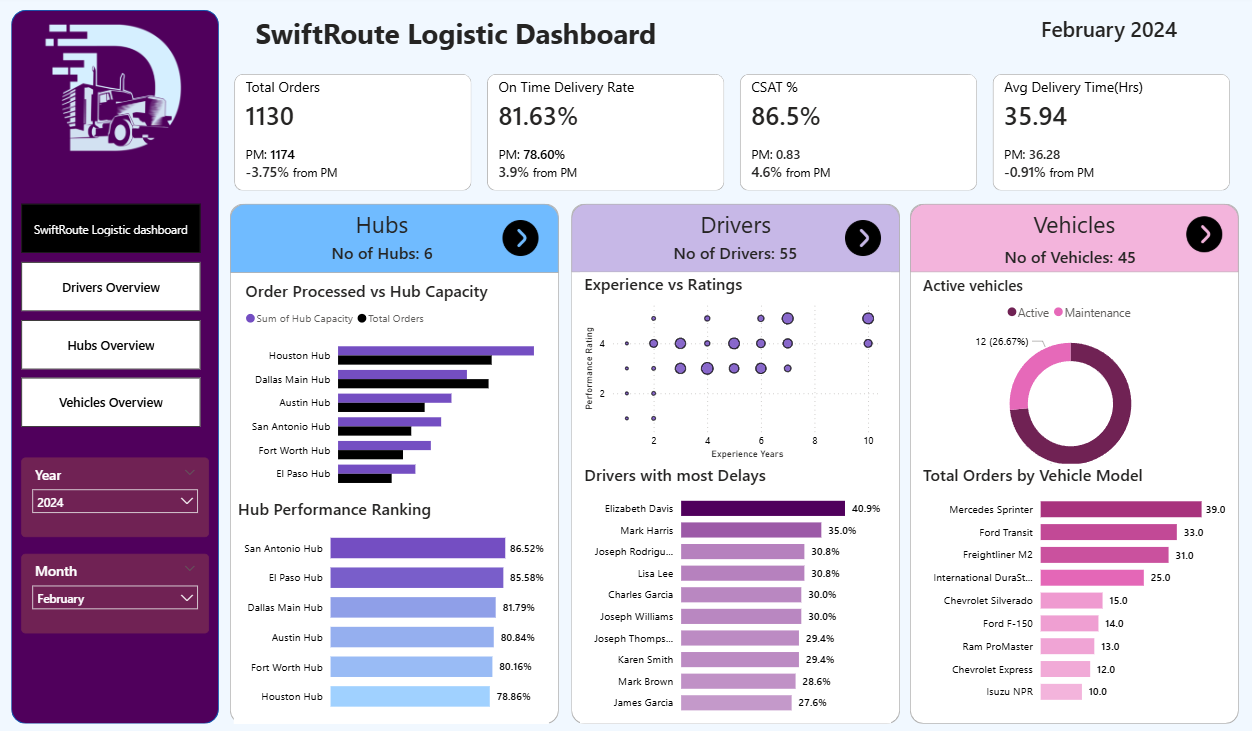

Layout of this report page (visuals, bound fields, positions):
{"tool":"powerbi","page":{"name":"SwiftRoute Logistic dashboard","canvas":[1450,850],"ordinal":0},"visuals":[{"type":"shape","box":[13,11.5,239.6,824.3],"z":0},{"type":"textbox","box":[290.2,11.5,1140.5,73.6],"z":1000},{"type":"cardVisual","fields":{"Data":["Orders.Total Orders","Orders.On Time Delivery Rate","Orders.CSAT %","Orders.Avg Delivery Time(Hrs)"]},"box":[265.6,75.1,1163.6,150.1],"z":2000},{"type":"slicer","fields":{"Values":["Date Table.Year"]},"box":[24.5,528.4,216.5,92.4],"z":3000},{"type":"slicer","fields":{"Values":["Date Table.Month"]},"box":[24.5,639.5,216.5,92.4],"z":4000},{"type":"shape","box":[265.6,235.3,379.7,600.5],"z":5000},{"type":"shape","box":[265.6,235.3,379.7,80],"z":6000},{"type":"textbox","box":[301.7,235.3,278.6,50.5],"z":7000},{"type":"cardVisual","fields":{"Data":["Hubs.No of Hubs"]},"box":[285.8,271.4,311.8,39],"z":8000},{"type":"clusteredBarChart","title":"Order Processed vs Hub Capacity","fields":{"Category":["Hubs.HubName"],"Y":["Sum(Hubs.Hub Capacity)","Orders.Total Orders"]},"box":[278.6,323.4,355.1,251.2],"z":9000},{"type":"barChart","title":"Hub Performance Ranking","fields":{"Category":["Hubs.HubName"],"Y":["Orders.On Time Delivery Rate"]},"box":[270,574.6,363.8,261.3],"z":10000},{"type":"shape","box":[659.7,235.3,379.7,600.5],"z":11000},{"type":"shape","box":[659.7,235.3,379.7,79.4],"z":12000},{"type":"shape","box":[1051,235.3,379.7,600.5],"z":13000},{"type":"shape","box":[1051,235.3,379.7,79.4],"z":14000},{"type":"cardVisual","fields":{"Data":["Drivers.Count Of Driver ID"]},"box":[659.7,271.4,379.7,39],"z":15000},{"type":"textbox","box":[659.7,235.3,379.7,50.5],"z":16000},{"type":"scatterChart","title":"Experience vs Ratings","fields":{"Y":["Drivers.Performance Rating"],"X":["Drivers.Experience Years"],"Size":["Sum(Drivers.Experience Years)1"]},"box":[669.8,314.7,359.5,220.9],"z":17000},{"type":"barChart","title":"Drivers with most Delays","fields":{"Category":["Drivers.DriverName"],"Y":["Drivers.Delayed Delivery Rate"]},"box":[669.8,535.6,359.5,300.3],"z":18000},{"type":"textbox","box":[1051,235.3,379.7,50.5],"z":19000},{"type":"cardVisual","fields":{"Data":["Vehicles.No of Vehicles"]},"box":[1061.1,275.7,350.8,39],"z":20000},{"type":"donutChart","title":"Active vehicles","fields":{"Category":["Vehicles.Vehicle Status"],"Y":["CountNonNull(Vehicles.Vehicle ID)"]},"box":[1061.1,317.6,350.8,245.4],"z":21000},{"type":"barChart","fields":{"Category":["Vehicles.Vehicle Model"],"Y":["Orders.Total Orders"]},"box":[1061.1,535.6,359.5,288.7],"z":22000},{"type":"image","box":[24.5,11.5,216.5,192],"z":23000},{"type":"cardVisual","fields":{"Data":["Orders.Year Month Value"]},"box":[1133.2,0,295.9,63.5],"z":24000},{"type":"pageNavigator","box":[24.5,235.3,207.9,258.4],"z":25000},{"type":"image","box":[580.3,254.1,41.9,41.9],"z":25001},{"type":"image","box":[1370,249.7,41.9,41.9],"z":25002},{"type":"image","box":[975.9,254.1,41.9,41.9],"z":25003}]}

Visuals, with their boxes on the page's 1450x850 design canvas (x1, y1, x2, y2). These are canvas units, not pixel positions in the 1252x731 screenshot, which may show the page scaled, cropped or inside an application window:
shape: l=13, t=12, r=253, b=836
textbox: l=290, t=12, r=1431, b=85
cardVisual - Orders.Total Orders x Orders.On Time Delivery Rate: l=266, t=75, r=1429, b=225
slicer - Date Table.Year: l=24, t=528, r=241, b=621
slicer - Date Table.Month: l=24, t=640, r=241, b=732
shape: l=266, t=235, r=645, b=836
shape: l=266, t=235, r=645, b=315
textbox: l=302, t=235, r=580, b=286
cardVisual - Hubs.No of Hubs: l=286, t=271, r=598, b=310
"Order Processed vs Hub Capacity" clusteredBarChart: l=279, t=323, r=634, b=575
"Hub Performance Ranking" barChart: l=270, t=575, r=634, b=836
shape: l=660, t=235, r=1039, b=836
shape: l=660, t=235, r=1039, b=315
shape: l=1051, t=235, r=1431, b=836
shape: l=1051, t=235, r=1431, b=315
cardVisual - Drivers.Count Of Driver ID: l=660, t=271, r=1039, b=310
textbox: l=660, t=235, r=1039, b=286
"Experience vs Ratings" scatterChart: l=670, t=315, r=1029, b=536
"Drivers with most Delays" barChart: l=670, t=536, r=1029, b=836
textbox: l=1051, t=235, r=1431, b=286
cardVisual - Vehicles.No of Vehicles: l=1061, t=276, r=1412, b=315
"Active vehicles" donutChart: l=1061, t=318, r=1412, b=563
barChart - Vehicles.Vehicle Model x Orders.Total Orders: l=1061, t=536, r=1421, b=824
image: l=24, t=12, r=241, b=204
cardVisual - Orders.Year Month Value: l=1133, t=0, r=1429, b=64
pageNavigator: l=24, t=235, r=232, b=494
image: l=580, t=254, r=622, b=296
image: l=1370, t=250, r=1412, b=292
image: l=976, t=254, r=1018, b=296
